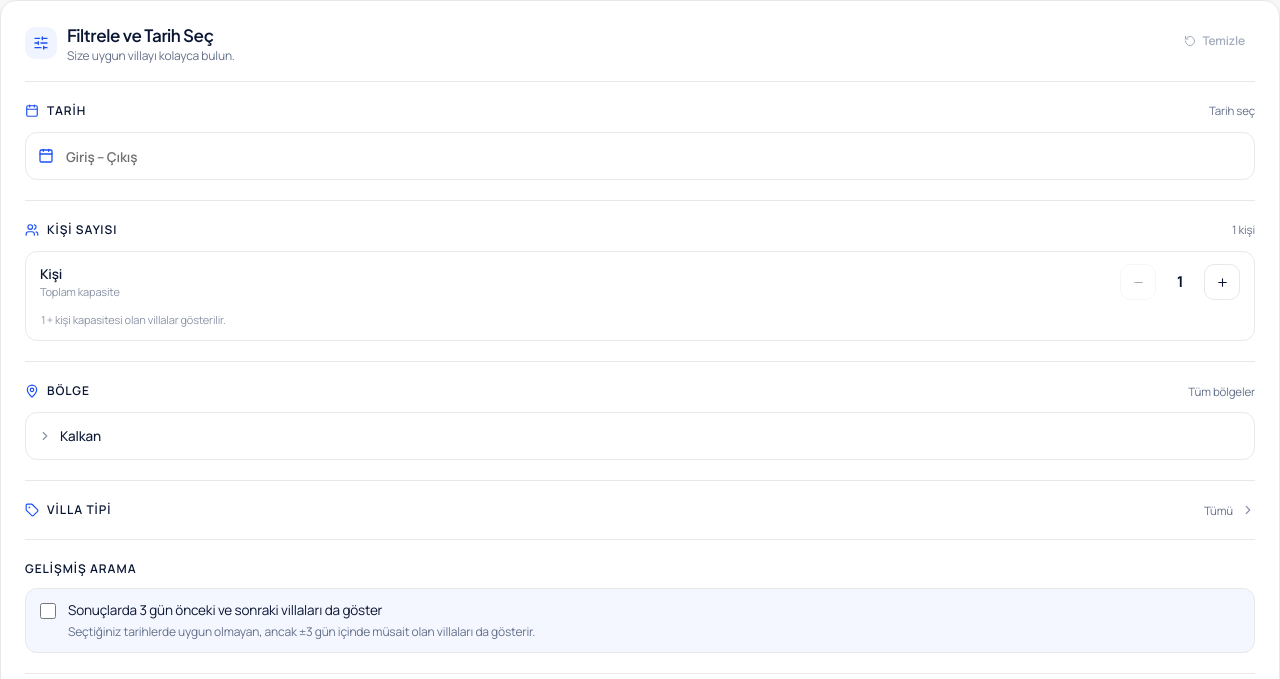
Villa tipi adı locale-aware › 33) FilterSidebar /tr → çözülmüş tip adını gösterir
The image size is (1280, 679).
Click the button "Villa Tipi Tümü": (79, 510) [25,501,1255,519]
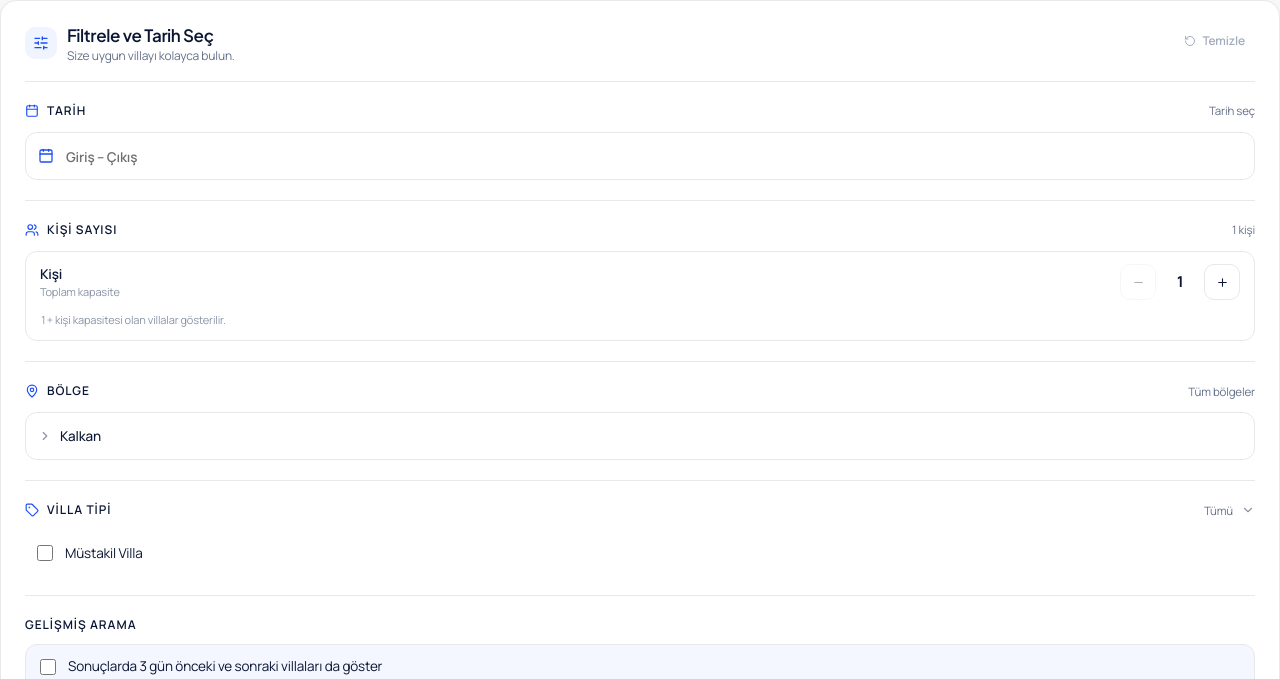
Now the text "Müstakil Villa" is shown, box [65,543,143,564]
